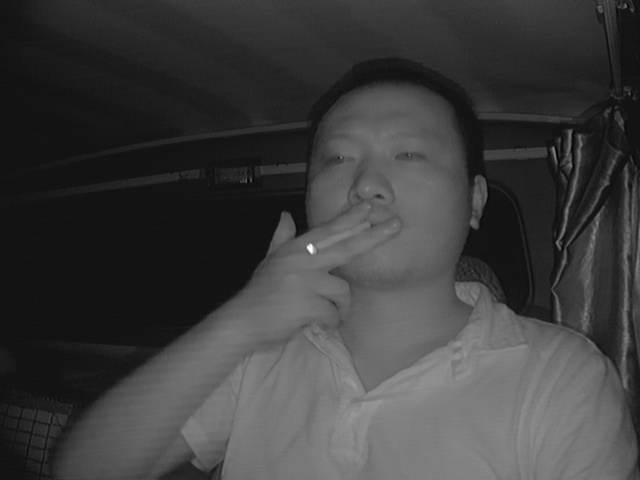hand: (290, 203, 401, 335)
